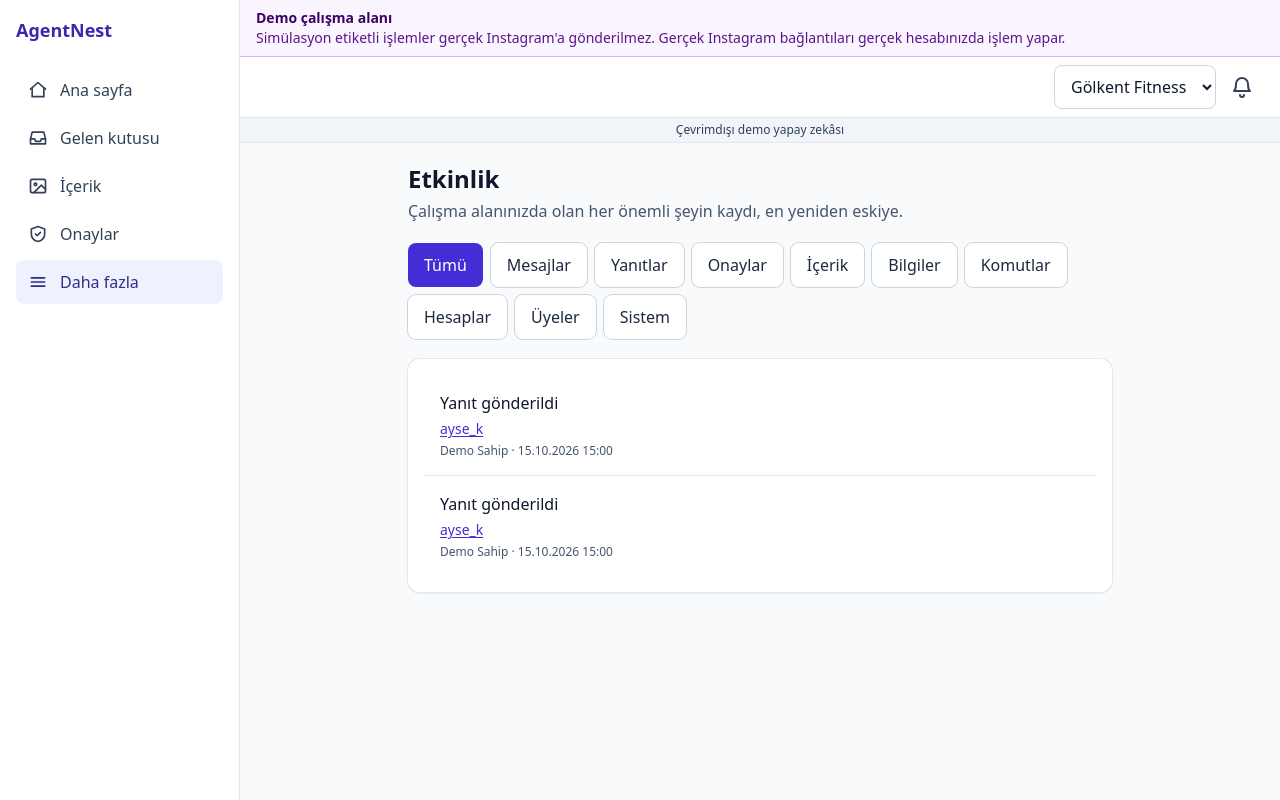
Test: activity feed › asks for the chosen group and shows its entries
Expected: the number of elements with test id "activity-entry" is 2, [440,392,613,459]; [440,493,613,560]
Click the button "Mesajlar": (539, 265) [491,243,587,287]
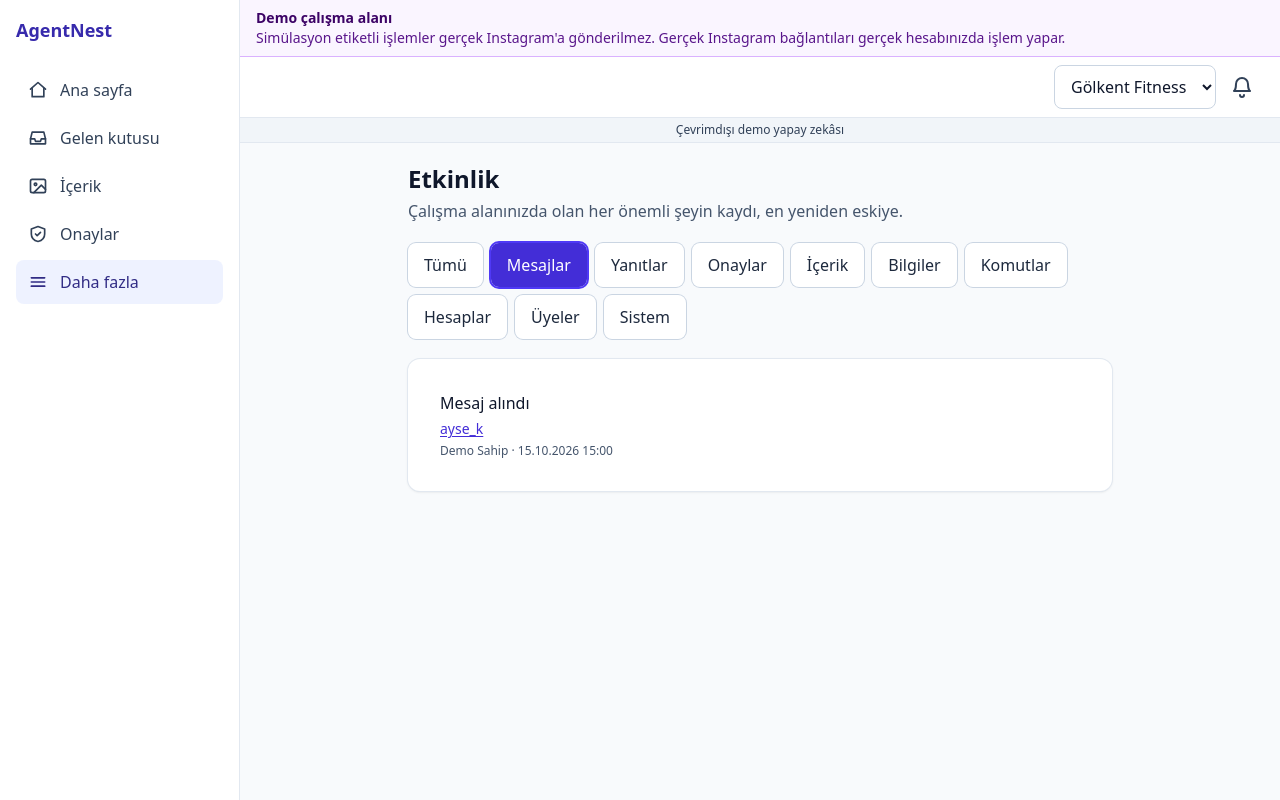
Expected: the text "Mesaj alındı" is shown, [440,391,530,415]
Expected: the number of elements with test id "activity-entry" is 1, [440,392,613,459]
